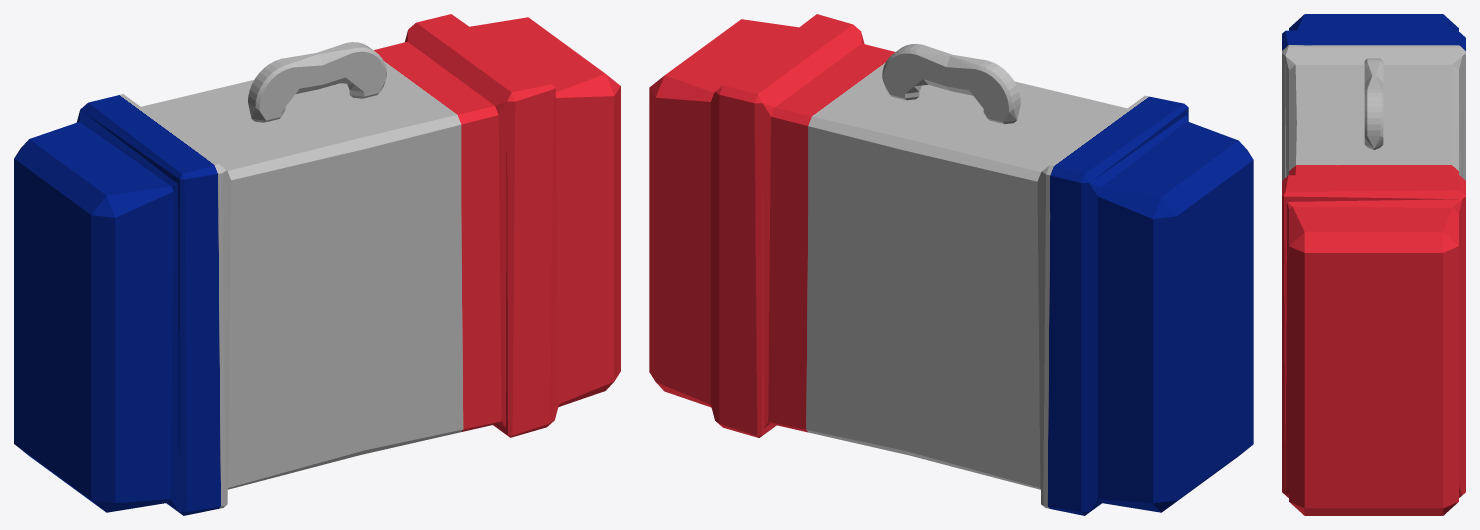
File: health.obj
The picture shows the model from 3 angles, left to right: view 1: azimuth 30°, elevation 25°; view 2: azimuth 150°, elevation 25°; view 3: azimuth 270°, elevation 25°; orthographic projection. The views are drawn at different scales.
Parts seen in each view (by area): view 1: Cube_Cube.001; view 2: Cube_Cube.001; view 3: Cube_Cube.001.
Boxes of the visible parts, x1,y1,x2,y2 form: Cube_Cube.001: (14,14,620,515); Cube_Cube.001: (649,14,1253,515); Cube_Cube.001: (1282,14,1465,515).
Size of the model in its own units: 3.49 by 2.42 by 1.17.
